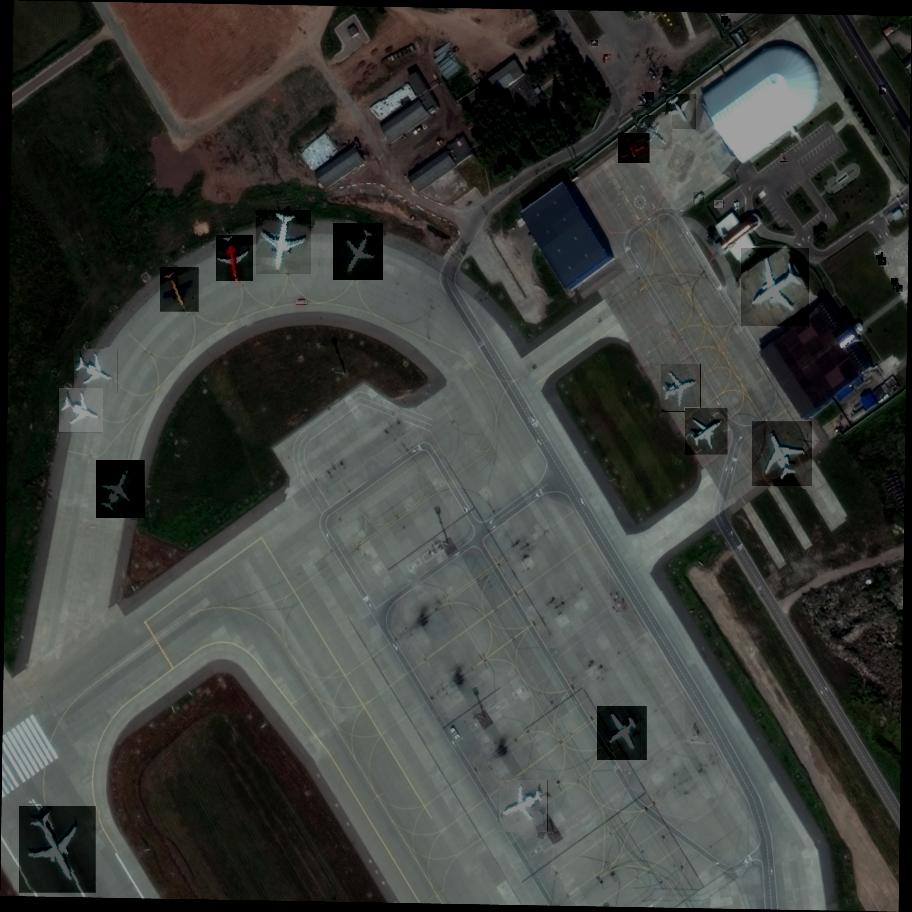plane: (18, 807, 97, 894), (738, 249, 814, 327), (750, 422, 813, 486), (256, 211, 312, 274), (495, 780, 553, 832), (95, 460, 147, 518), (333, 223, 385, 280), (596, 707, 649, 761), (57, 388, 107, 434), (73, 349, 123, 394), (684, 408, 731, 455), (660, 365, 703, 412), (160, 267, 200, 312), (216, 235, 253, 283), (637, 116, 673, 151), (666, 94, 699, 129), (617, 133, 650, 164)
small-vehicle: (693, 192, 704, 205), (644, 92, 655, 102), (879, 85, 888, 95), (642, 94, 650, 104), (638, 96, 646, 106), (779, 153, 787, 163), (715, 200, 725, 208), (528, 415, 536, 424), (603, 54, 612, 62), (721, 16, 730, 24), (878, 257, 887, 265), (881, 261, 889, 269), (874, 248, 882, 256), (725, 19, 732, 28), (877, 252, 884, 260), (891, 278, 898, 285), (735, 201, 740, 210), (893, 285, 900, 290), (297, 301, 307, 304), (897, 286, 902, 291), (591, 41, 597, 45)
